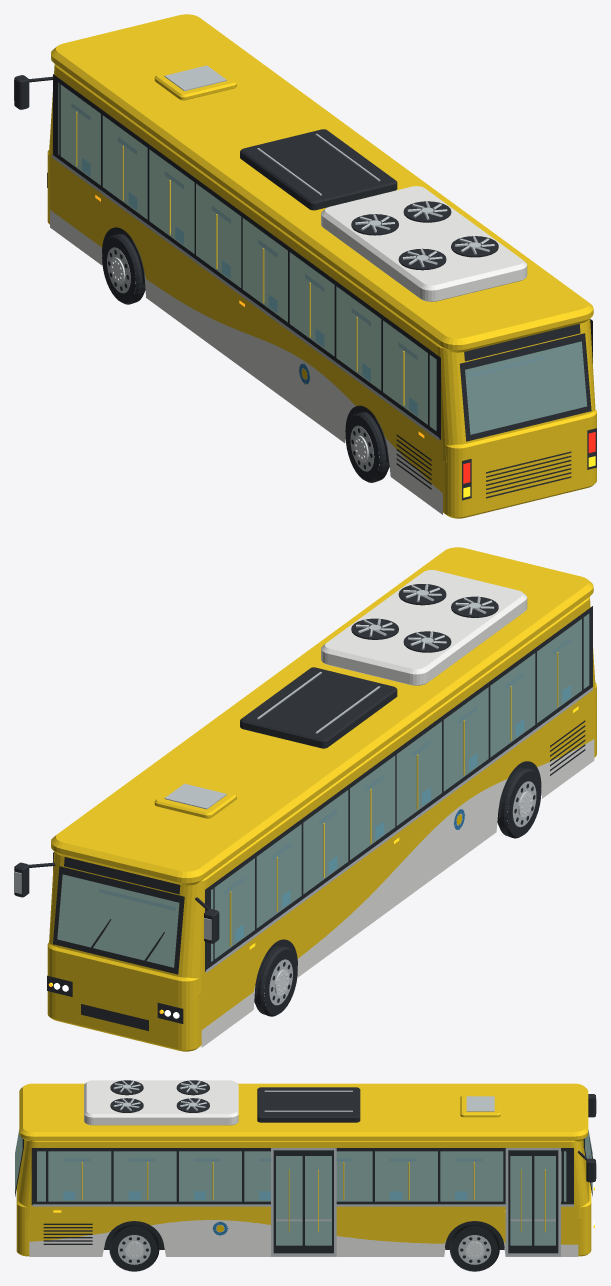
File: sunlight-bus-transmac.glb
3 views of the same model, one above another, from view 1: azimuth 30°, elevation 25°; view 2: azimuth 150°, elevation 25°; view 3: azimuth 270°, elevation 25° (orthographic). The views are drawn at different scales.
Parts seen in each view (by area): view 1: Transmac; view 2: Transmac; view 3: Transmac.
Boxes of the visible parts, box(x1,y1,x2,y2) form: Transmac: box(14, 14, 596, 518); Transmac: box(14, 547, 596, 1051); Transmac: box(15, 1080, 596, 1271).
Size of the model in its own units: 3.3 by 3.37 by 11.87.
Materials: 13 (1 with a texture image).
